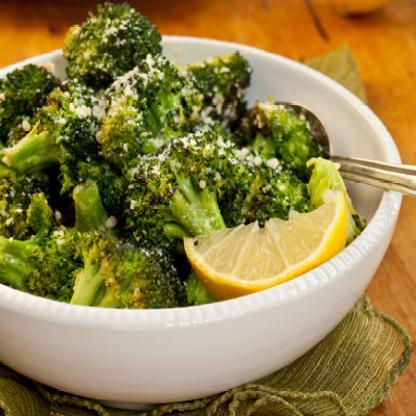broccoli: (0, 2, 368, 311)
